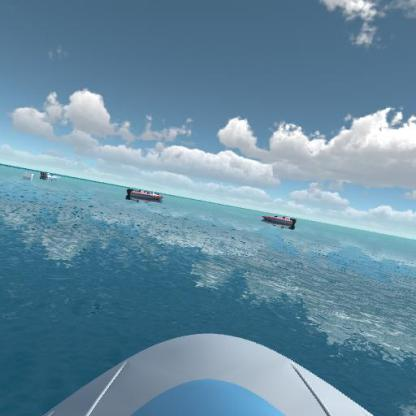usv1: (38, 168, 63, 186)
usv3: (124, 184, 166, 206), (262, 211, 300, 233)
